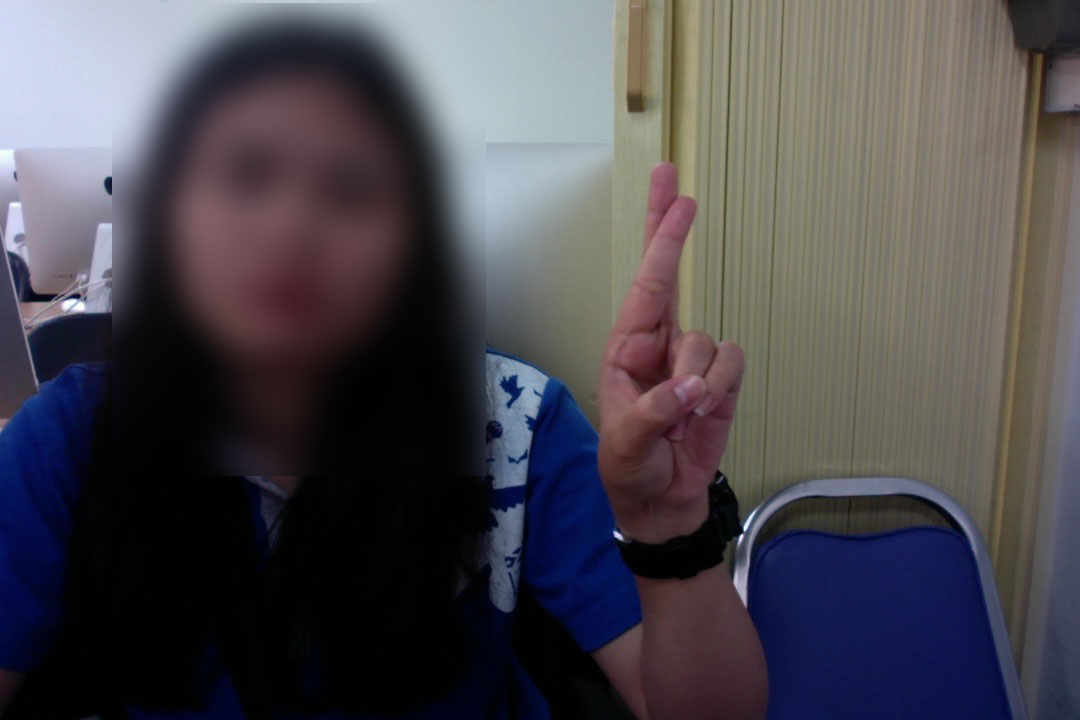rao: (594, 158, 745, 511)
